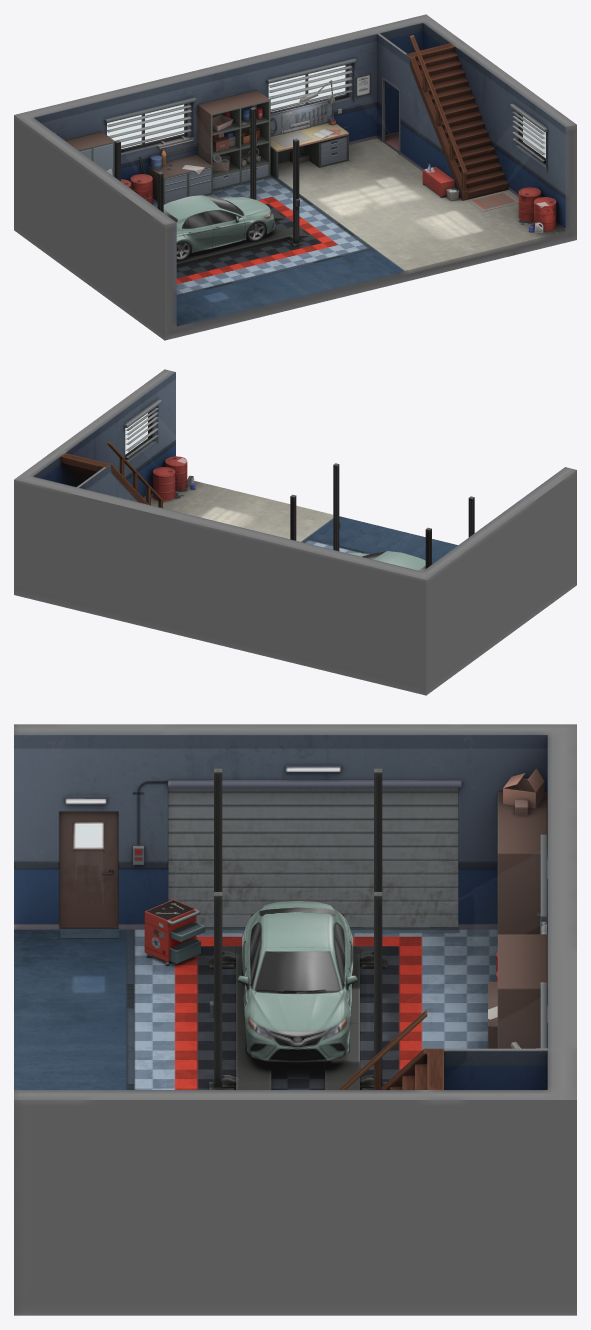
3 views of the same model, one above another, from view 1: azimuth 30°, elevation 25°; view 2: azimuth 150°, elevation 25°; view 3: azimuth 270°, elevation 25° (orthographic). The views are drawn at different scales.
Visible parts, largest first — view 1: room_low, tool_cupboard_mesh_01_low, tool_table_low, Camry_body_low, table_mesh_02_low, car_rail_mesh_low, blinds_mesh_02_low, blinds_mesh_03_low, tool_cupboard_mesh_03_low, perila_stand_mesh_low, car_stand_mesh_01_low, barrel_mesh_02_low (+7 smaller); view 2: room_low, Camry_body_low, barrel_mesh_01_low, blinds_mesh_01_low, car_stand_mesh_01_low, perila_stand_mesh_low, barrel_mesh_02_low; view 3: room_low, Camry_body_low, tool_cupboard_mesh_03_low, tool_cupboard_mesh_01_low, car_rail_mesh_low, tool_table_mesh_low, gate_thingie_low, car_stand_mesh_01_low, car_stand_mesh_04_low, car_stand_mesh_03_low, car_stand_mesh_02_low, box_mesh_01_low (+1 smaller).
Boxes of the visible parts, x1=… form: room_low: x1=14, y1=14, x2=576, y2=340; tool_cupboard_mesh_01_low: x1=197, y1=90, x2=270, y2=191; tool_table_low: x1=270, y1=80, x2=348, y2=178; Camry_body_low: x1=157, y1=195, x2=275, y2=253; table_mesh_02_low: x1=147, y1=154, x2=212, y2=204; car_rail_mesh_low: x1=176, y1=211, x2=309, y2=268; blinds_mesh_02_low: x1=268, y1=65, x2=352, y2=111; blinds_mesh_03_low: x1=106, y1=105, x2=191, y2=148; tool_cupboard_mesh_03_low: x1=65, y1=131, x2=114, y2=176; perila_stand_mesh_low: x1=410, y1=35, x2=466, y2=190; car_stand_mesh_01_low: x1=287, y1=138, x2=302, y2=246; barrel_mesh_02_low: x1=534, y1=197, x2=556, y2=231; room_low: x1=14, y1=369, x2=576, y2=695; Camry_body_low: x1=347, y1=551, x2=432, y2=571; barrel_mesh_01_low: x1=153, y1=467, x2=175, y2=501; blinds_mesh_01_low: x1=126, y1=408, x2=158, y2=457; car_stand_mesh_01_low: x1=333, y1=463, x2=339, y2=550; perila_stand_mesh_low: x1=106, y1=442, x2=163, y2=508; barrel_mesh_02_low: x1=165, y1=456, x2=187, y2=490; room_low: x1=14, y1=724, x2=576, y2=1315; Camry_body_low: x1=237, y1=901, x2=357, y2=1062; tool_cupboard_mesh_03_low: x1=497, y1=791, x2=547, y2=934; tool_cupboard_mesh_01_low: x1=497, y1=934, x2=547, y2=1048; car_rail_mesh_low: x1=222, y1=947, x2=373, y2=1089; tool_table_mesh_low: x1=144, y1=899, x2=205, y2=965; gate_thingie_low: x1=168, y1=780, x2=461, y2=787; car_stand_mesh_01_low: x1=209, y1=892, x2=234, y2=1089; car_stand_mesh_04_low: x1=361, y1=892, x2=386, y2=1089; car_stand_mesh_03_low: x1=361, y1=768, x2=387, y2=968; car_stand_mesh_02_low: x1=209, y1=768, x2=234, y2=968; box_mesh_01_low: x1=503, y1=768, x2=544, y2=808.
Bounding box in the file's own units: 128 × 40.5 × 80.85.
2 materials, 2 textured.
